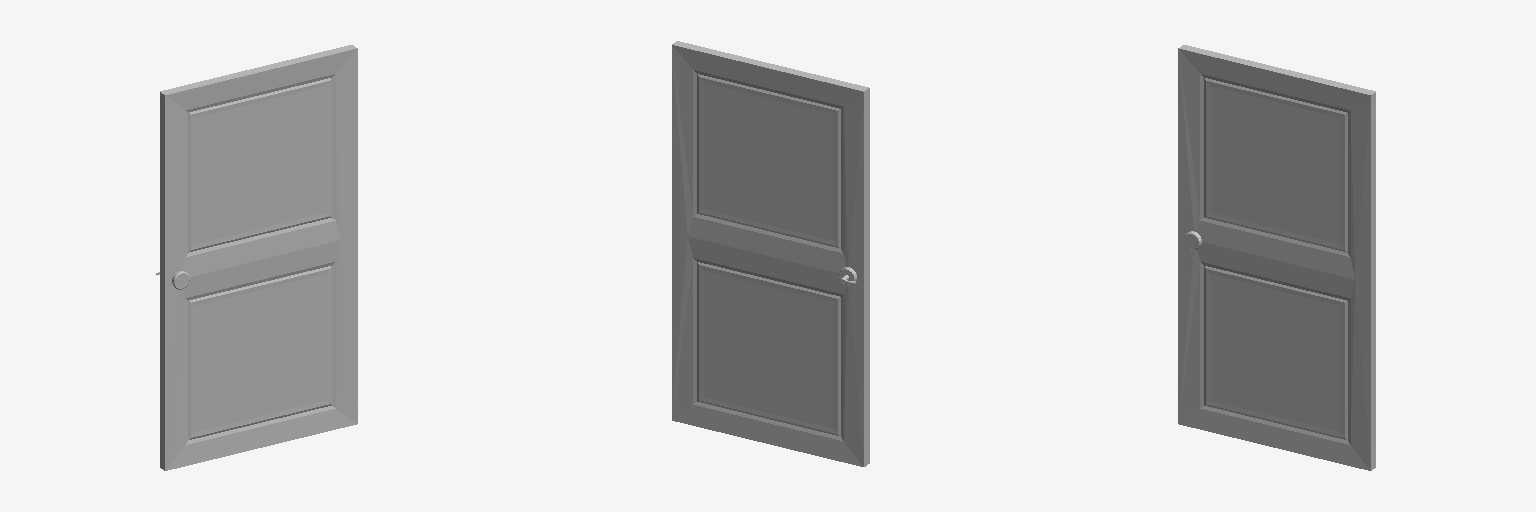
The model's file is door.obj.
3 renders of one model, left to right at view 1: azimuth 30°, elevation 25°; view 2: azimuth 150°, elevation 25°; view 3: azimuth 330°, elevation 25°, orthographic.
Parts seen in each view (by area): view 1: pCube2; view 2: pCube2; view 3: pCube2.
Boxes of the visible parts, box(x1,y1,x2,y2) form: pCube2: box(156, 45, 357, 470); pCube2: box(672, 41, 869, 466); pCube2: box(1178, 45, 1375, 470).
Bounding box in the file's own units: 23.22 × 43.31 × 3.08.